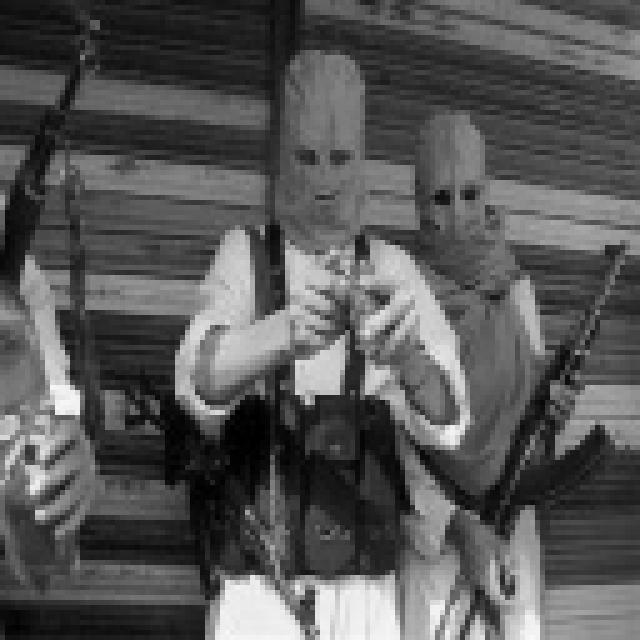Rifle: (405, 190, 640, 630), (118, 162, 326, 640), (0, 12, 141, 320), (302, 228, 421, 380)
